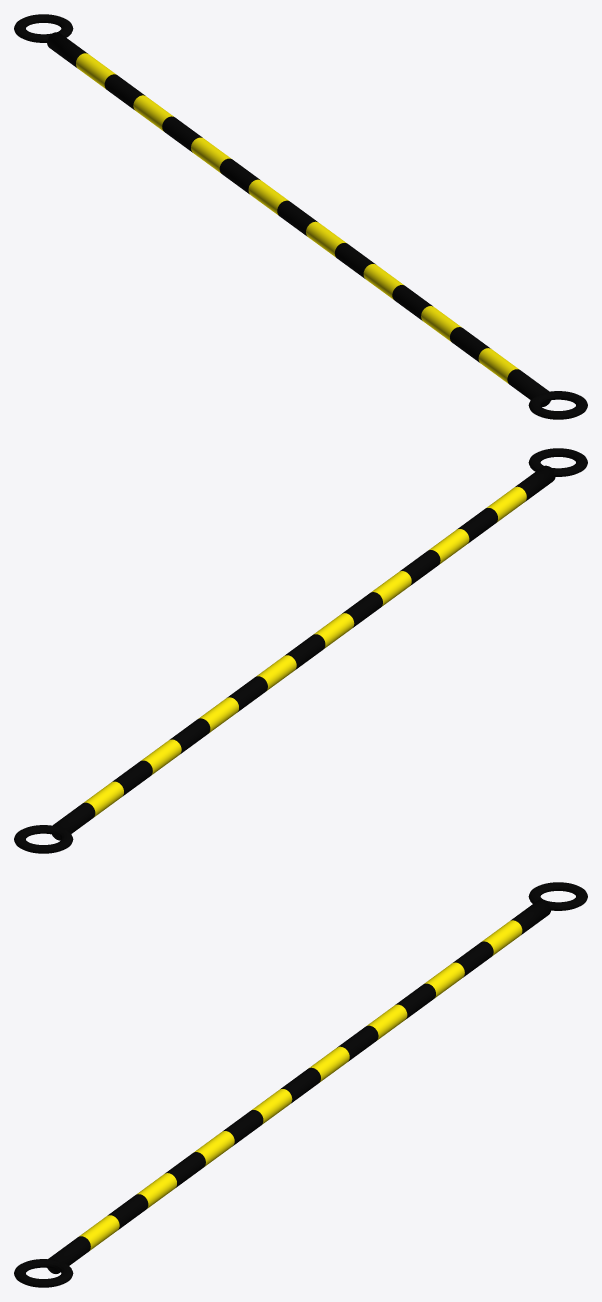
The model's file is ポール.fbx.
The picture shows the model from 3 angles, top to bottom: view 1: azimuth 30°, elevation 25°; view 2: azimuth 150°, elevation 25°; view 3: azimuth 330°, elevation 25°; orthographic projection.
Parts seen in each view (by area): view 1: 円柱.006; view 2: 円柱.006; view 3: 円柱.006.
Part boxes in pixels (left/top/right/bottom): 円柱.006: left=14, top=14, right=587, bottom=419; 円柱.006: left=14, top=448, right=587, bottom=853; 円柱.006: left=14, top=882, right=587, bottom=1287.
Size of the model in its own units: 2.51 by 0.7689 by 46.07.
